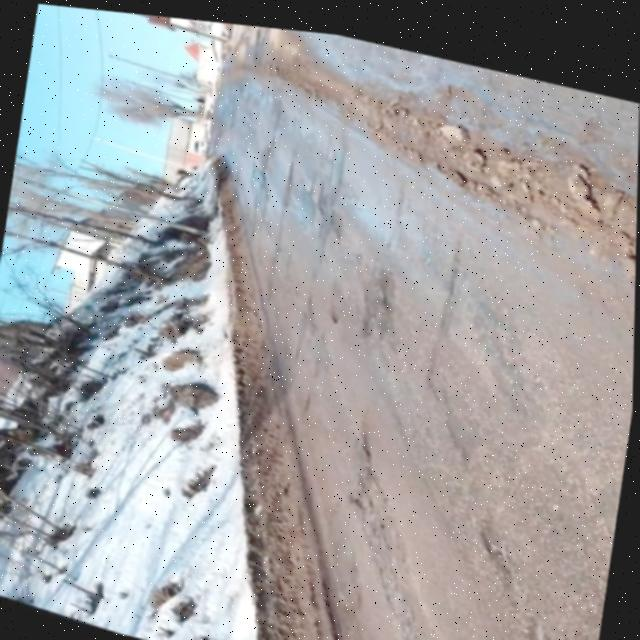Pothole: (457, 493, 530, 557), (354, 251, 414, 320), (338, 466, 392, 514), (555, 615, 602, 640), (322, 296, 345, 320)
